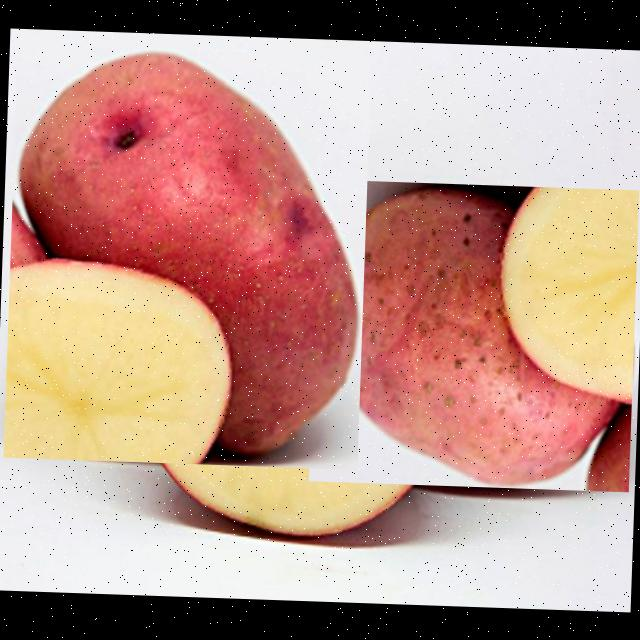Defected potato: (3, 43, 371, 470), (308, 179, 638, 492)
